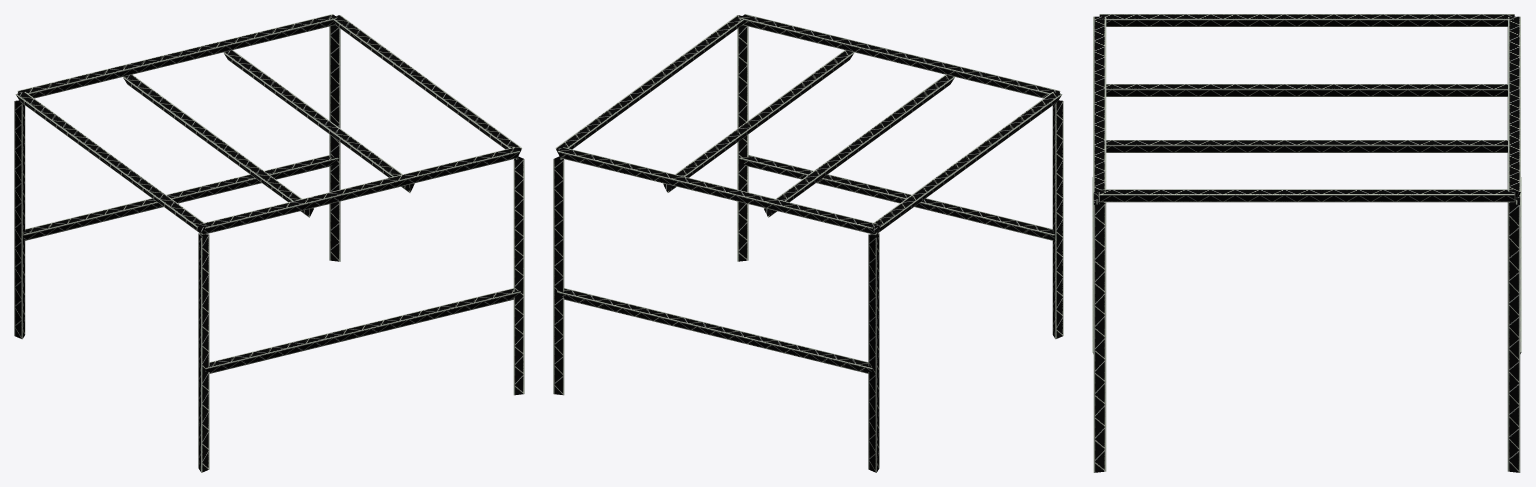
The model's file is cyberzoo_poles.dae.
3 renders of one model, left to right at view 1: azimuth 30°, elevation 25°; view 2: azimuth 150°, elevation 25°; view 3: azimuth 270°, elevation 25°, orthographic. The views are drawn at different scales.
Visible parts, largest first — view 1: instance_4, instance_12, instance_2, instance_3, instance_1, instance_10, instance_6, instance_11, instance_5, instance_8, instance_9, instance_7; view 2: instance_2, instance_3, instance_4, instance_12, instance_6, instance_1, instance_7, instance_11, instance_5, instance_9, instance_8, instance_10; view 3: instance_5, instance_11, instance_8, instance_9, instance_7, instance_10, instance_4, instance_2.
Boxes of the visible parts, box(x1,y1,x2,y2) form: instance_4: box(200, 147, 519, 234); instance_12: box(205, 288, 520, 373); instance_2: box(17, 14, 337, 98); instance_3: box(23, 155, 338, 240); instance_1: box(198, 233, 209, 472); instance_10: box(513, 156, 524, 395); instance_6: box(14, 100, 25, 339); instance_11: box(15, 92, 205, 234); instance_5: box(331, 15, 521, 155); instance_8: box(123, 74, 313, 217); instance_9: box(223, 50, 414, 192); instance_7: box(329, 25, 340, 261); instance_2: box(557, 147, 877, 234); instance_3: box(557, 288, 872, 373); instance_4: box(740, 14, 1060, 98); instance_12: box(739, 155, 1054, 240); instance_6: box(868, 233, 879, 472); instance_1: box(1052, 100, 1063, 339); instance_7: box(553, 156, 564, 395); instance_11: box(873, 92, 1062, 234); instance_5: box(555, 15, 744, 154); instance_9: box(663, 50, 854, 192); instance_8: box(763, 74, 954, 217); instance_10: box(737, 25, 748, 261); instance_5: box(1099, 189, 1514, 202); instance_11: box(1099, 14, 1514, 26); instance_8: box(1106, 84, 1507, 96); instance_9: box(1106, 140, 1507, 152); instance_7: box(1507, 200, 1520, 472); instance_10: box(1093, 200, 1106, 472); instance_4: box(1093, 16, 1106, 201); instance_2: box(1508, 16, 1520, 201).
Bounding box in the file's own units: 382 × 383 × 274.
1 material, 1 textured.
